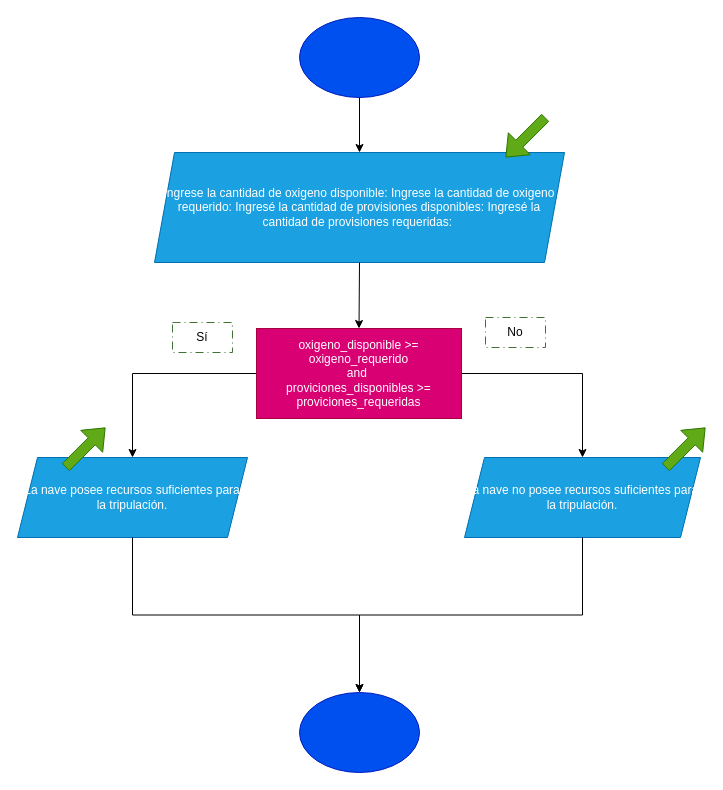
This 723x790 diagram has some shape labels left out. The shapes that lost their labels are listed below. From the top down, each one's box as (x1, y1, x2, y2) in pixels, then its label:
(298, 16, 420, 98): Inicio
(298, 692, 420, 772): FIn
